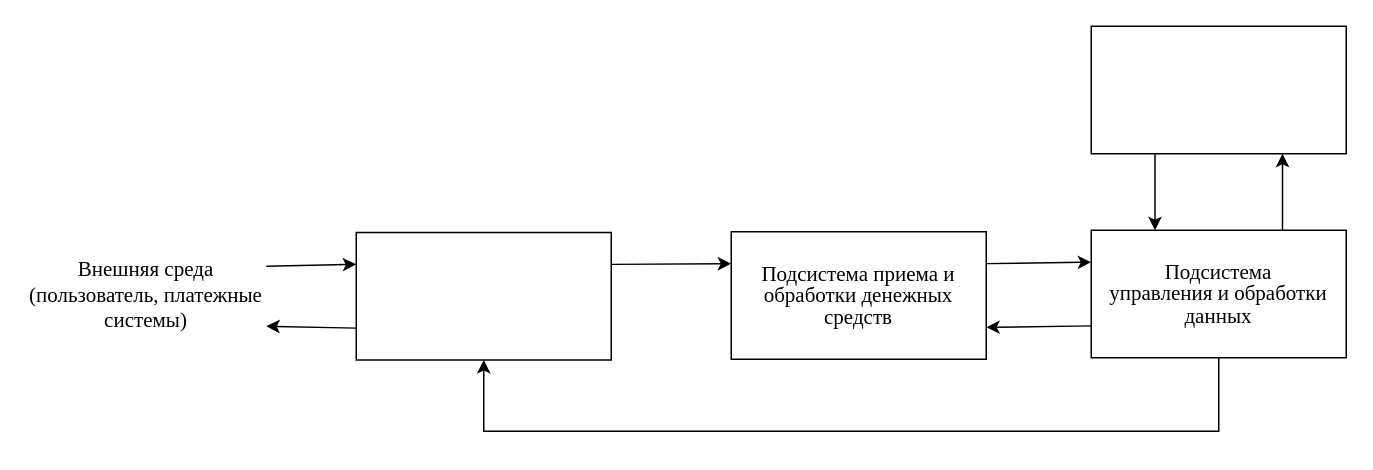
Some shapes in this 1373 by 470 pixel diagram are drawn without their labels. The shapes that lost their labels are listed below. From the top down, each one's centre as x and y in pixels, then its label:
[1218,89]: Подсистема хранения и выдачи товаров
[483,295]: Подсистема взаимодействия с пользователем
